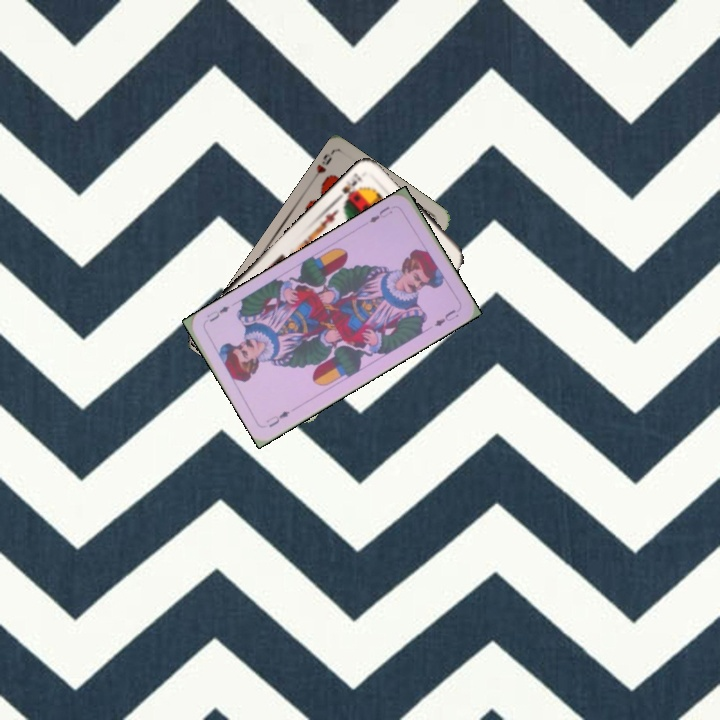EU: (365, 202, 395, 225), (262, 407, 292, 430)
H9: (312, 150, 334, 176)
SK: (338, 169, 364, 205)
